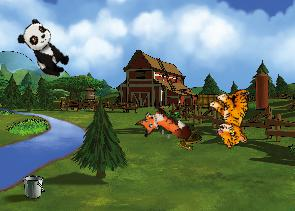fox: (132, 99, 194, 157)
panda: (13, 16, 76, 82)
tiger: (202, 83, 265, 150)
